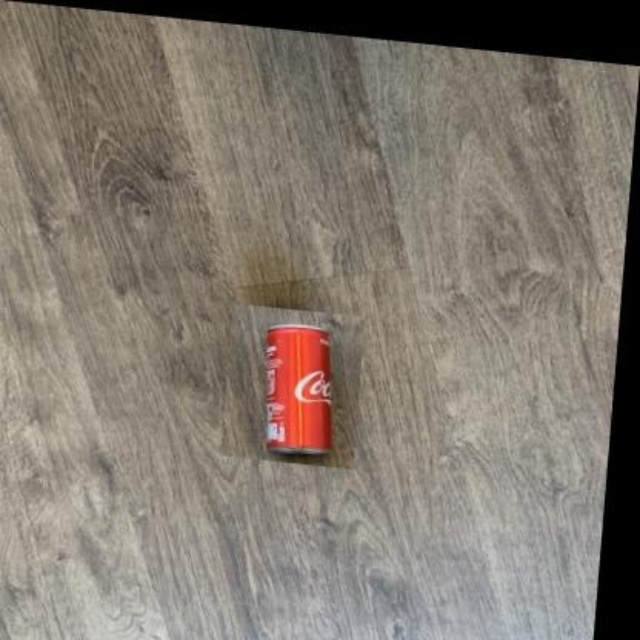trash: (265, 325, 331, 452)
